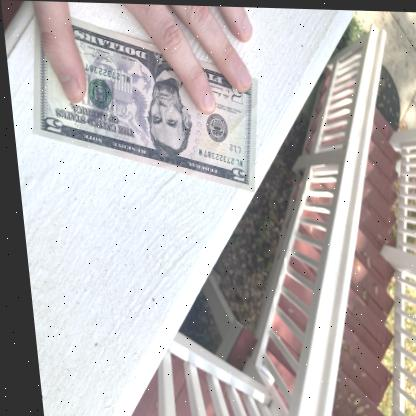five-front: (30, 5, 255, 192)
